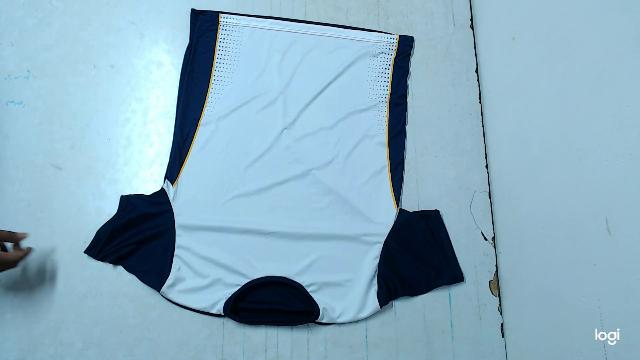new-garment: (85, 10, 463, 326)
